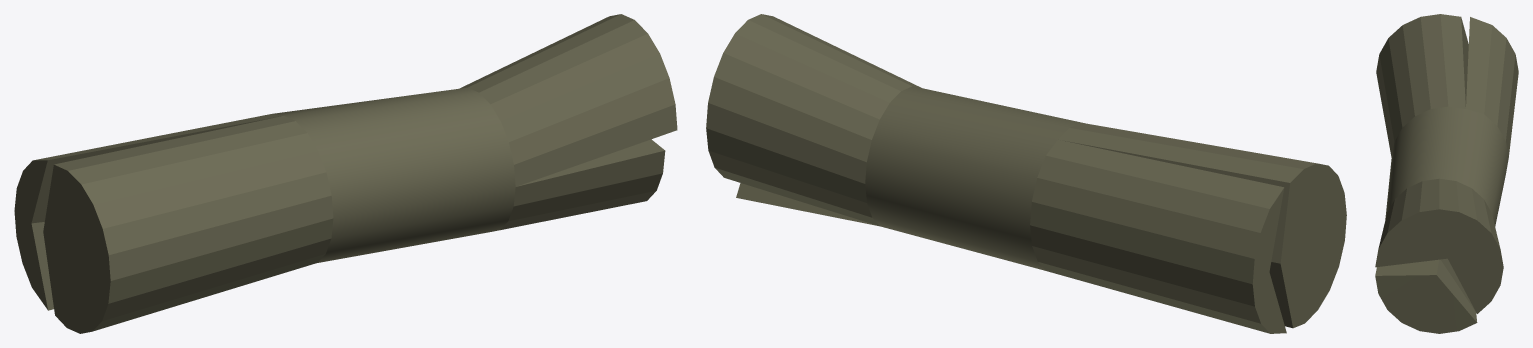
File: Branch2.fbx
3 views of the same model, side by side, from view 1: azimuth 30°, elevation 25°; view 2: azimuth 150°, elevation 25°; view 3: azimuth 270°, elevation 25° (orthographic). The views are drawn at different scales.
Visible parts, largest first — view 1: Branch2; view 2: Branch2; view 3: Branch2.
Boxes of the visible parts, x1,y1,x2,y2 form: Branch2: (14, 14, 677, 333); Branch2: (706, 14, 1346, 333); Branch2: (1375, 14, 1518, 333).
Size of the model in its own units: 3.24 by 0.95 by 0.9551.
